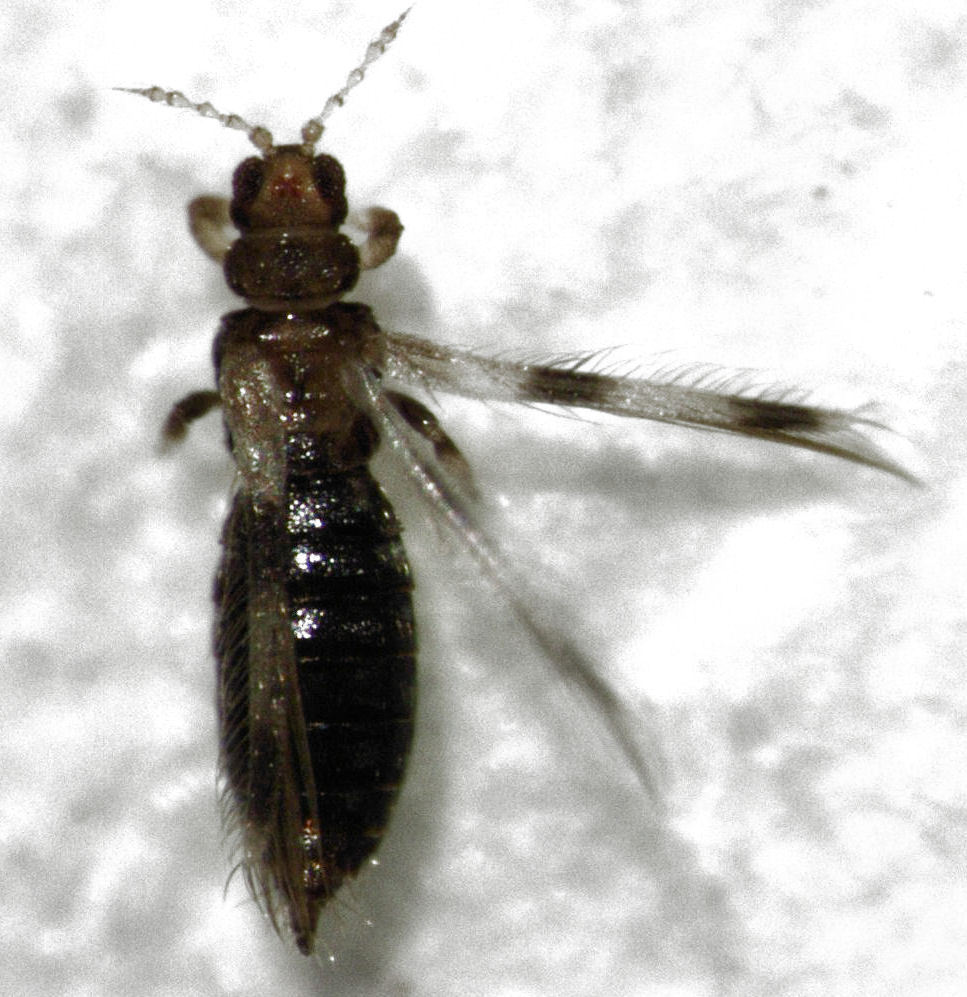Thrips: (113, 7, 598, 972)
